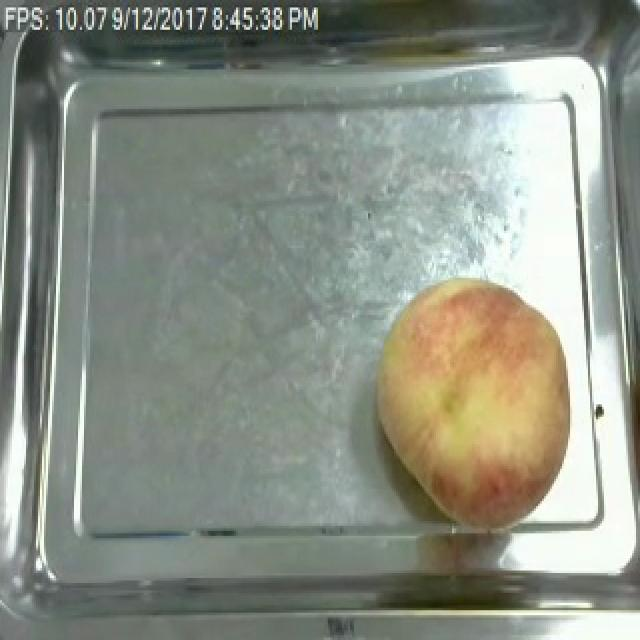Fruit: (362, 268, 584, 536)
